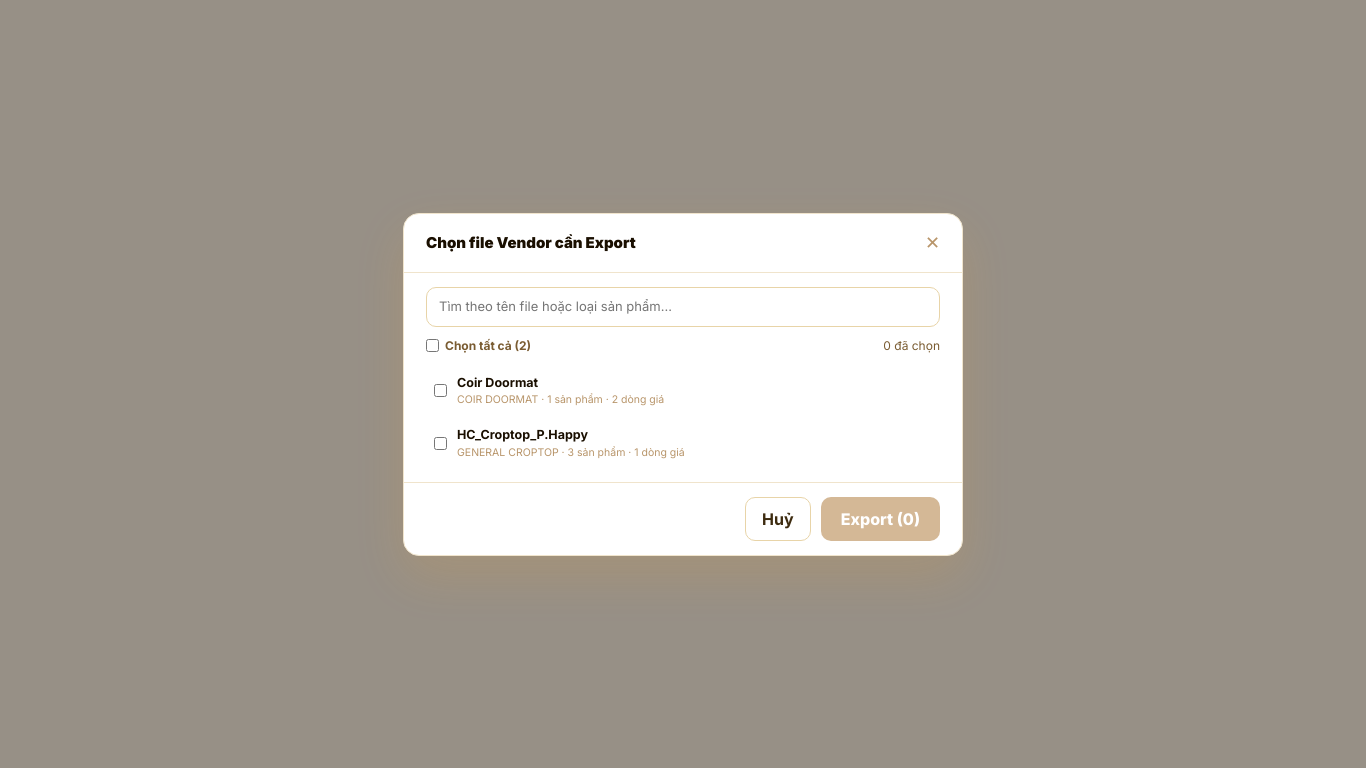
it: ExportVendorFilesModal › tìm kiếm lọc đúng theo tên file
Type "croptop" into the field with placeholder "Tìm theo tên file hoặc loại sản phẩm...".
click(683, 307); type("croptop")  # box [426,287,940,326]
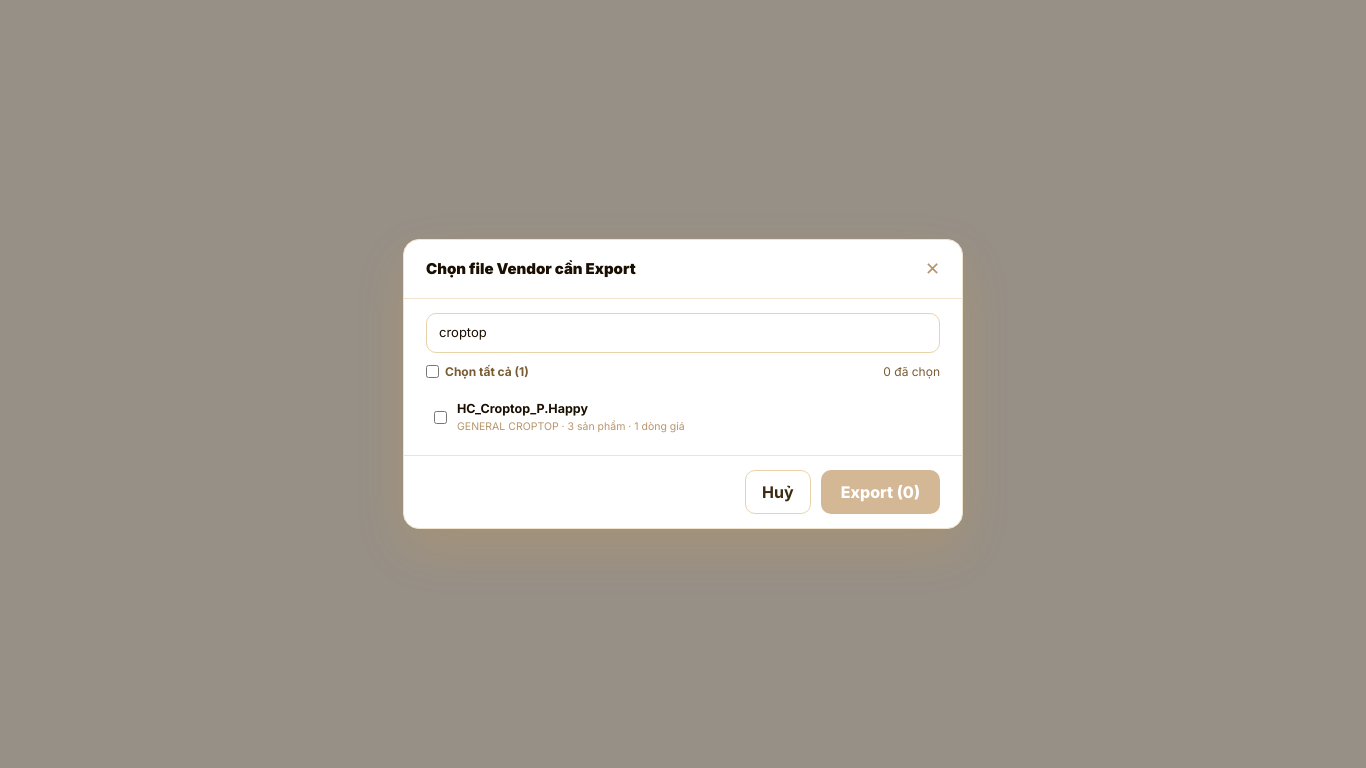
Expected: the text "HC_Croptop_P.Happy" is shown, [457,401,588,416]
Expected: the text "Coir Doormat" is gone
